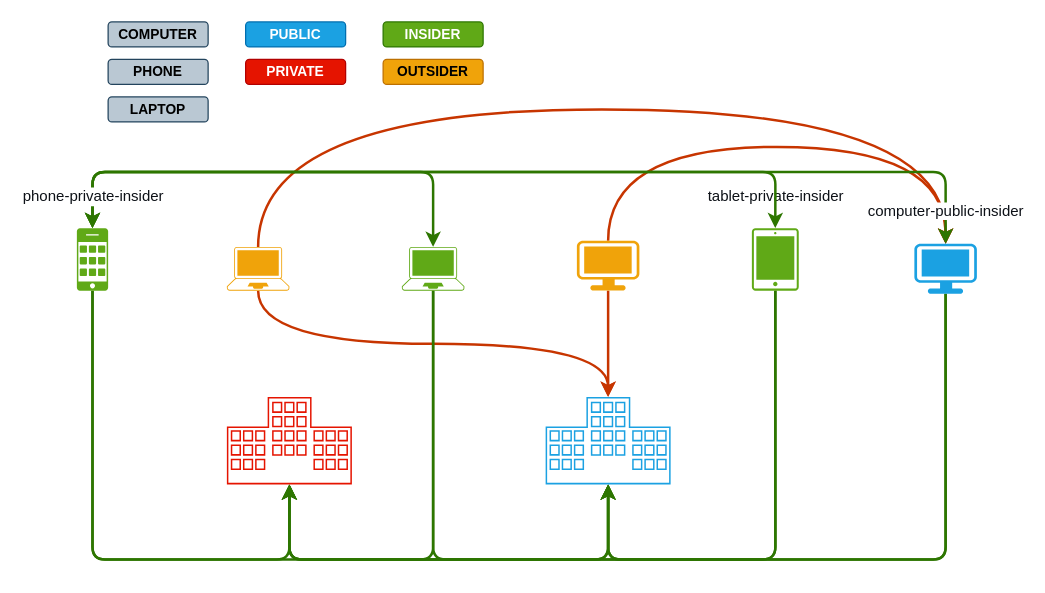
This 1045x593 diagram has some shape labels left out. Here are the shapes that lost their labels. From the top down, the centre of each, then its label:
At [257,268]: "laptop-private-outsider".
At [432,268]: "laptop-private-insider".
At [607,265]: "computer-private-outsider".
At [289,440]: "server-private-insider".
At [607,440]: "server-public-insider".
